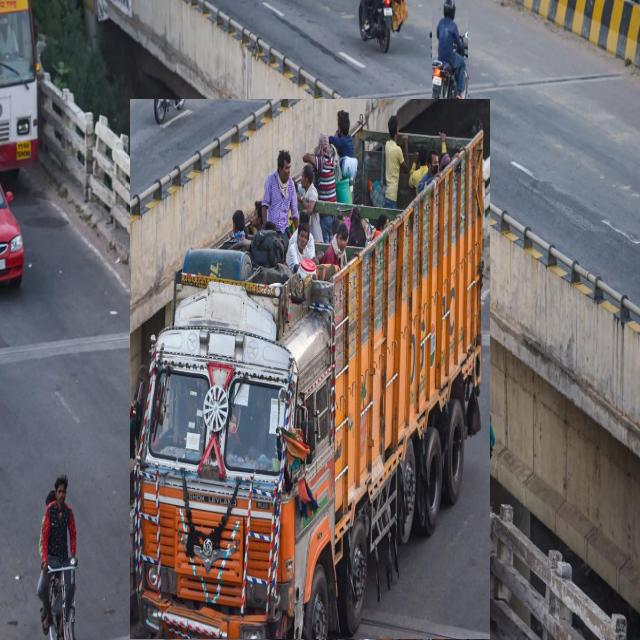bicycle: (38, 476, 84, 640), (75, 589, 86, 640), (65, 584, 75, 622), (71, 570, 75, 589)
motorcycle: (432, 0, 468, 124)
truck: (130, 100, 490, 639)
